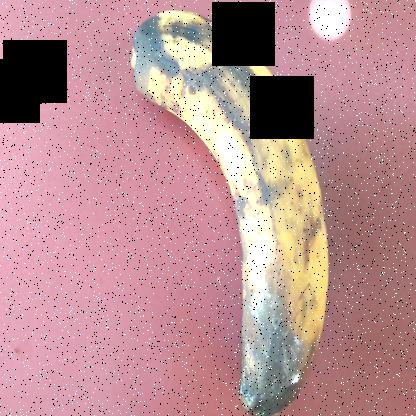rotten: (118, 0, 334, 415)
